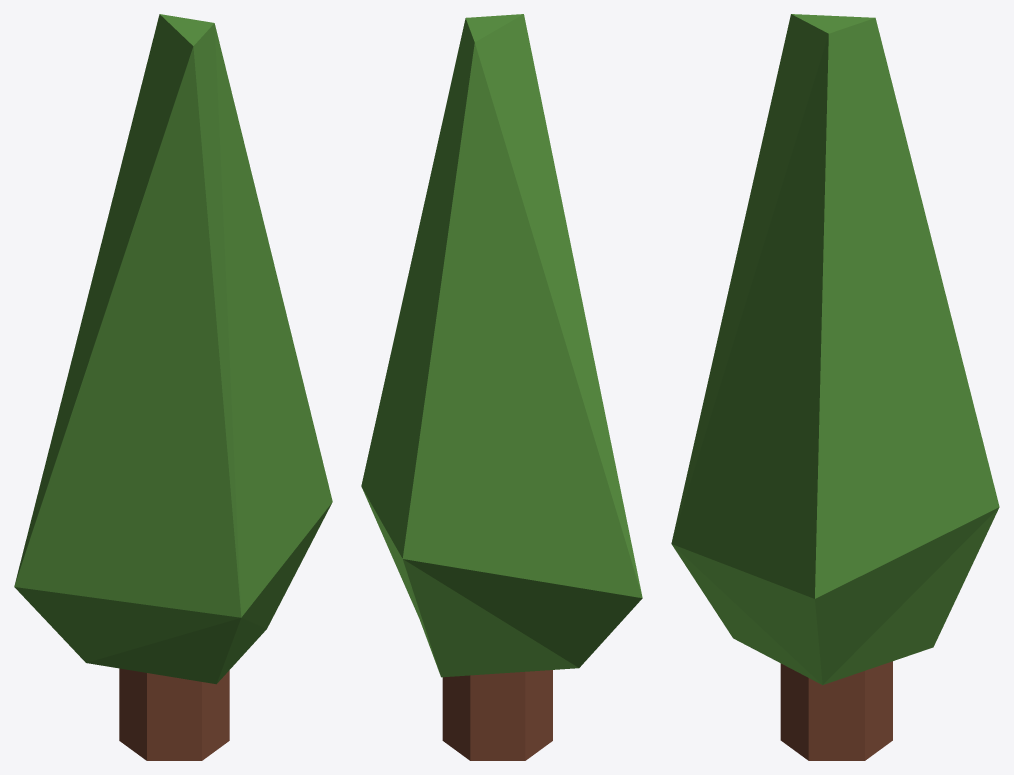
Rendered from Bush_10_summer_mat.fbx.
3 views of the same model, side by side, from view 1: azimuth 30°, elevation 25°; view 2: azimuth 150°, elevation 25°; view 3: azimuth 270°, elevation 25° (orthographic).
Parts seen in each view (by area): view 1: Bush_10_summer_mat; view 2: Bush_10_summer_mat; view 3: Bush_10_summer_mat.
Part boxes in pixels (left/top/right/bottom): Bush_10_summer_mat: left=14, top=14, right=332, bottom=760; Bush_10_summer_mat: left=361, top=14, right=642, bottom=760; Bush_10_summer_mat: left=671, top=14, right=999, bottom=760.
Bounding box in the file's own units: 38.13 × 86.43 × 35.48.
